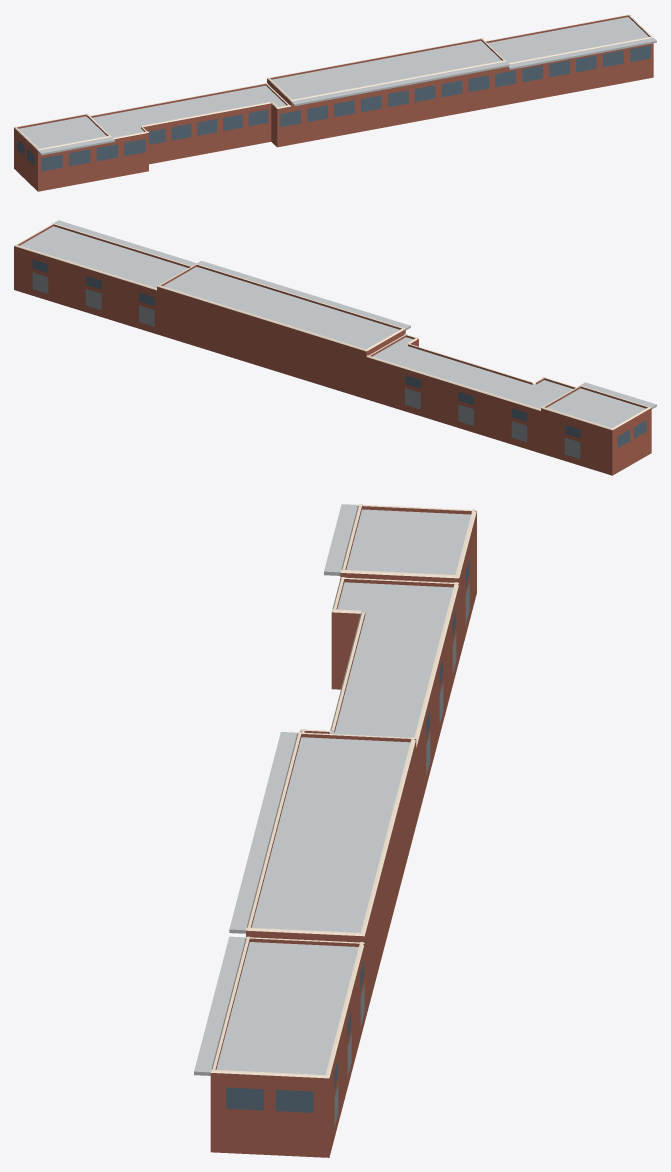
Rendered from detail.glb.
3 views of the same model, one above another, from view 1: azimuth 30°, elevation 25°; view 2: azimuth 150°, elevation 25°; view 3: azimuth 270°, elevation 25° (orthographic). The views are drawn at different scales.
Visible parts, largest first — view 1: raceway-building; view 2: raceway-building; view 3: raceway-building.
Part boxes in pixels (x1,y1,x2,y2): raceway-building: (14, 14, 656, 191); raceway-building: (14, 220, 656, 475); raceway-building: (194, 504, 476, 1157).
Bounding box in the file's own units: 138 × 9.9 × 28.87.
